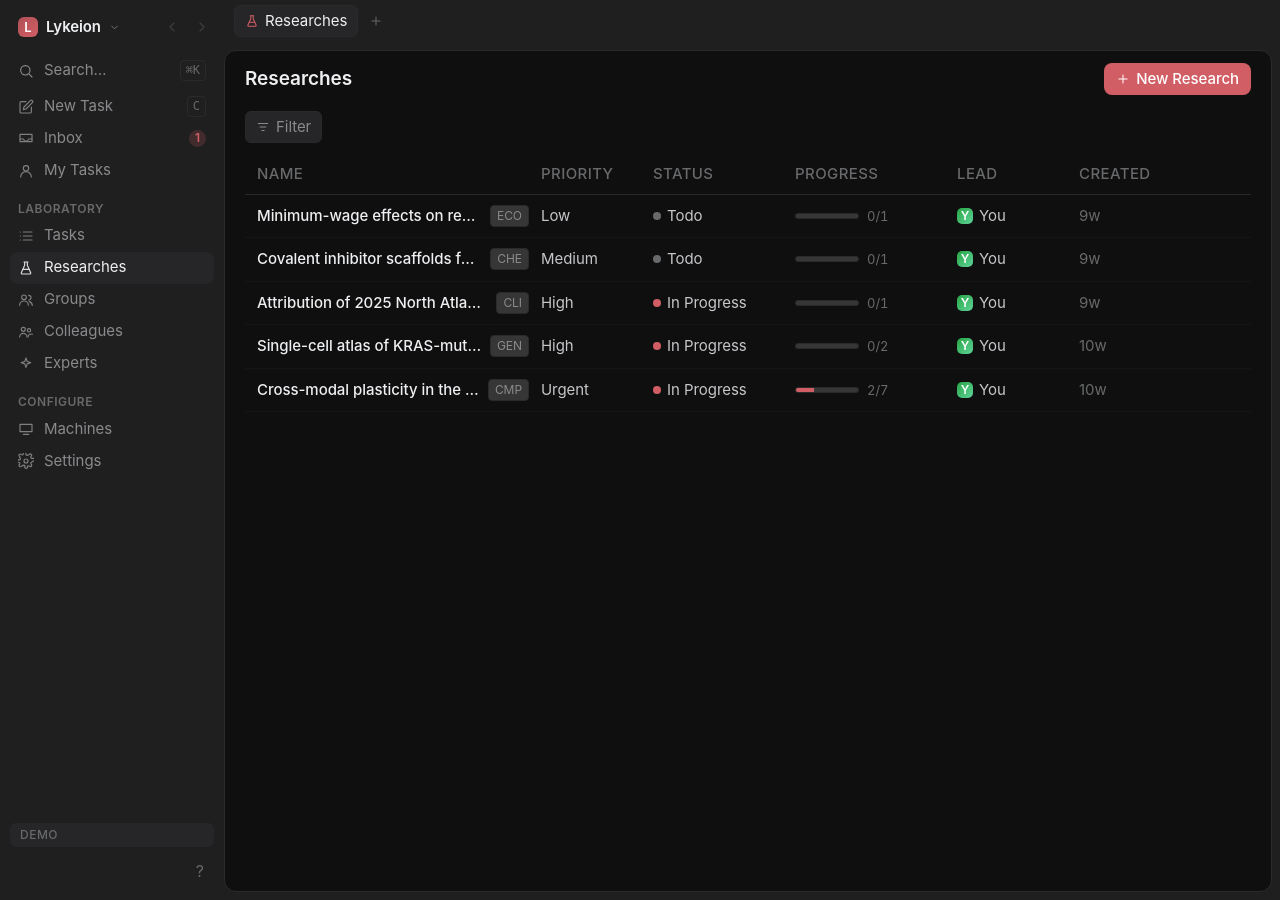
Test: an empty archive says so rather than going blank
The width and height of the screenshot is (1280, 900).
Check: the text "Cross-modal plasticity in the brain" is shown, box [257,378,480,401]
Click the button "Filter".
click(284, 127)  # box [245,111,322,143]
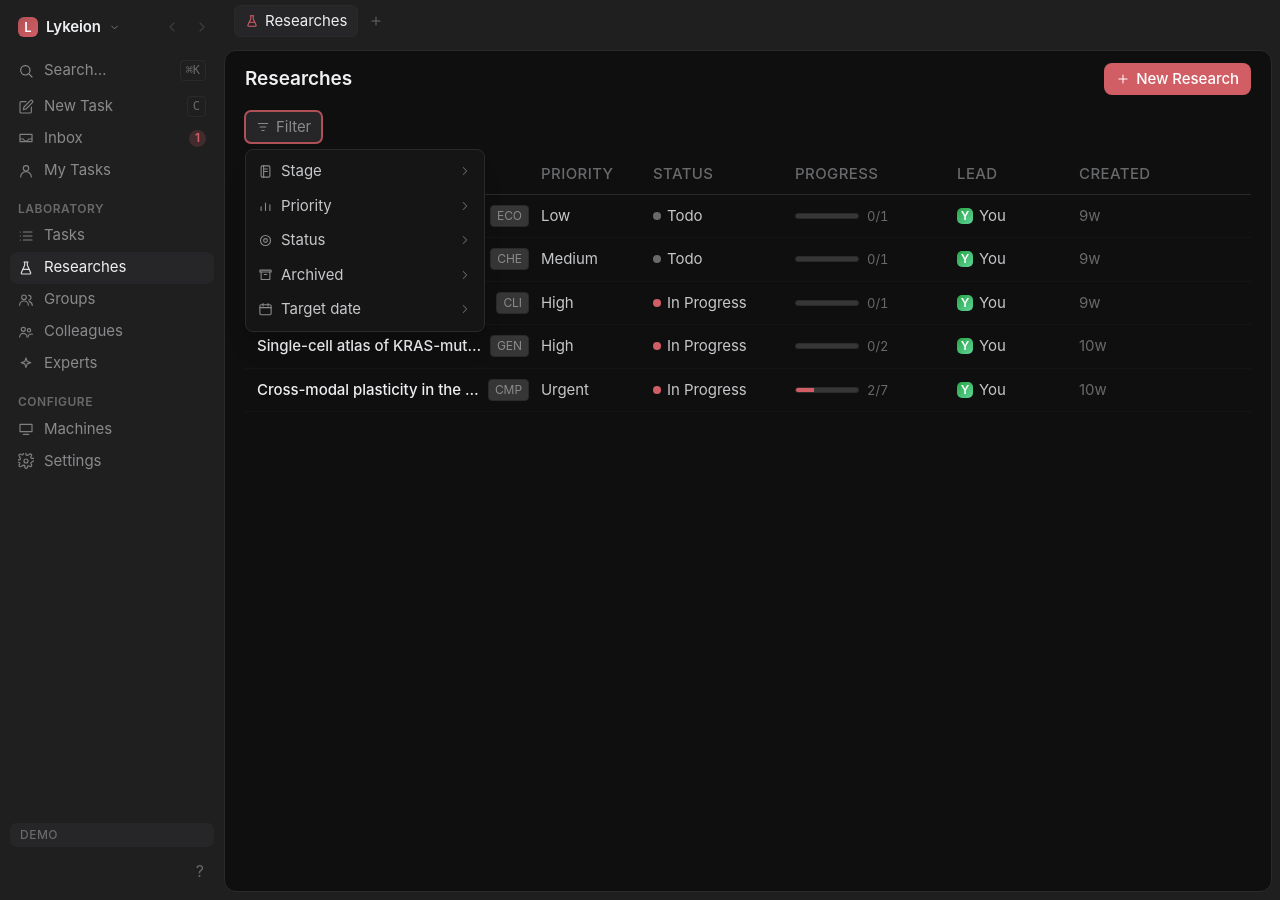
Click the button "Archived".
click(365, 275)  # box [250,258,480,292]
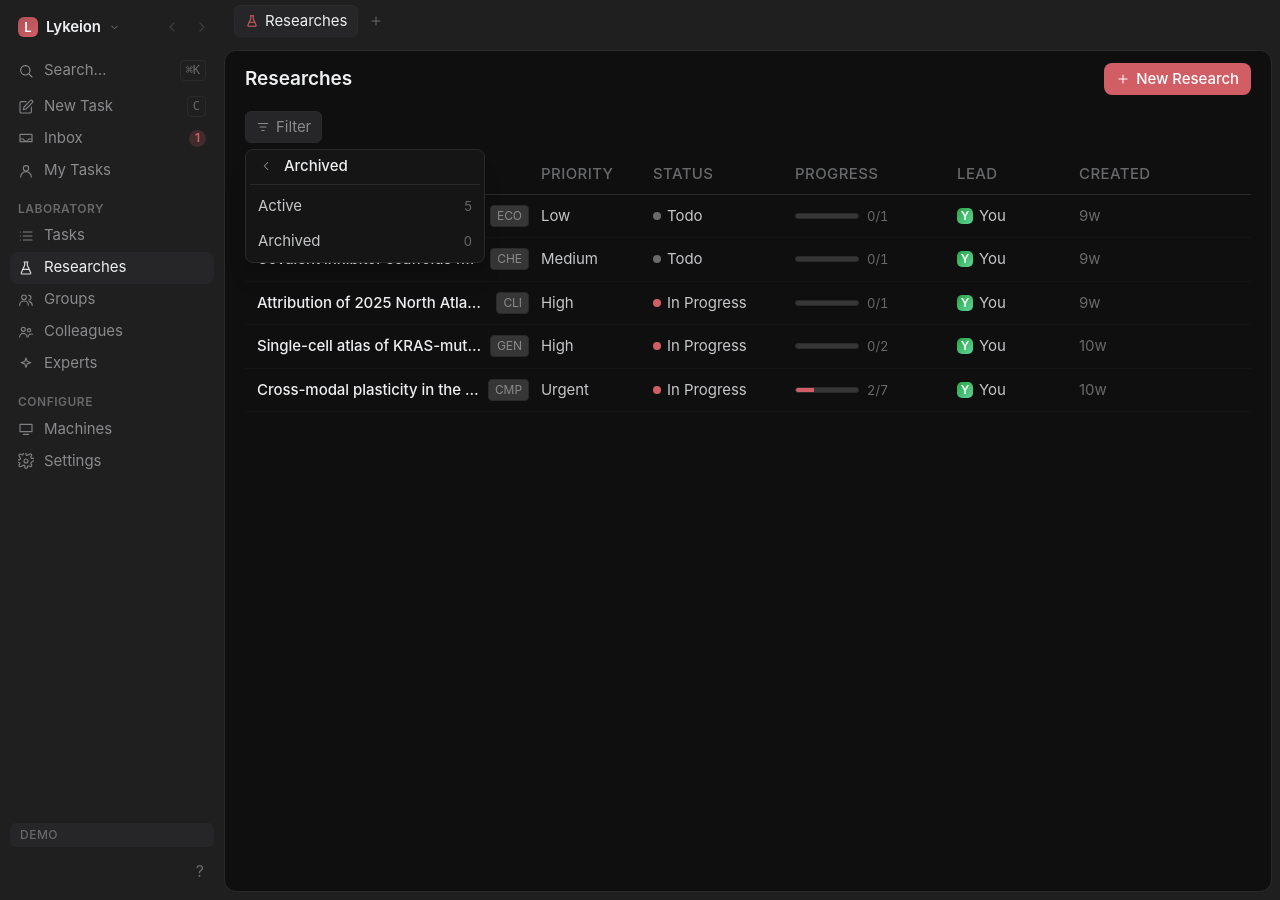
Click the button "Archived 0".
click(365, 241)  # box [250,224,480,258]
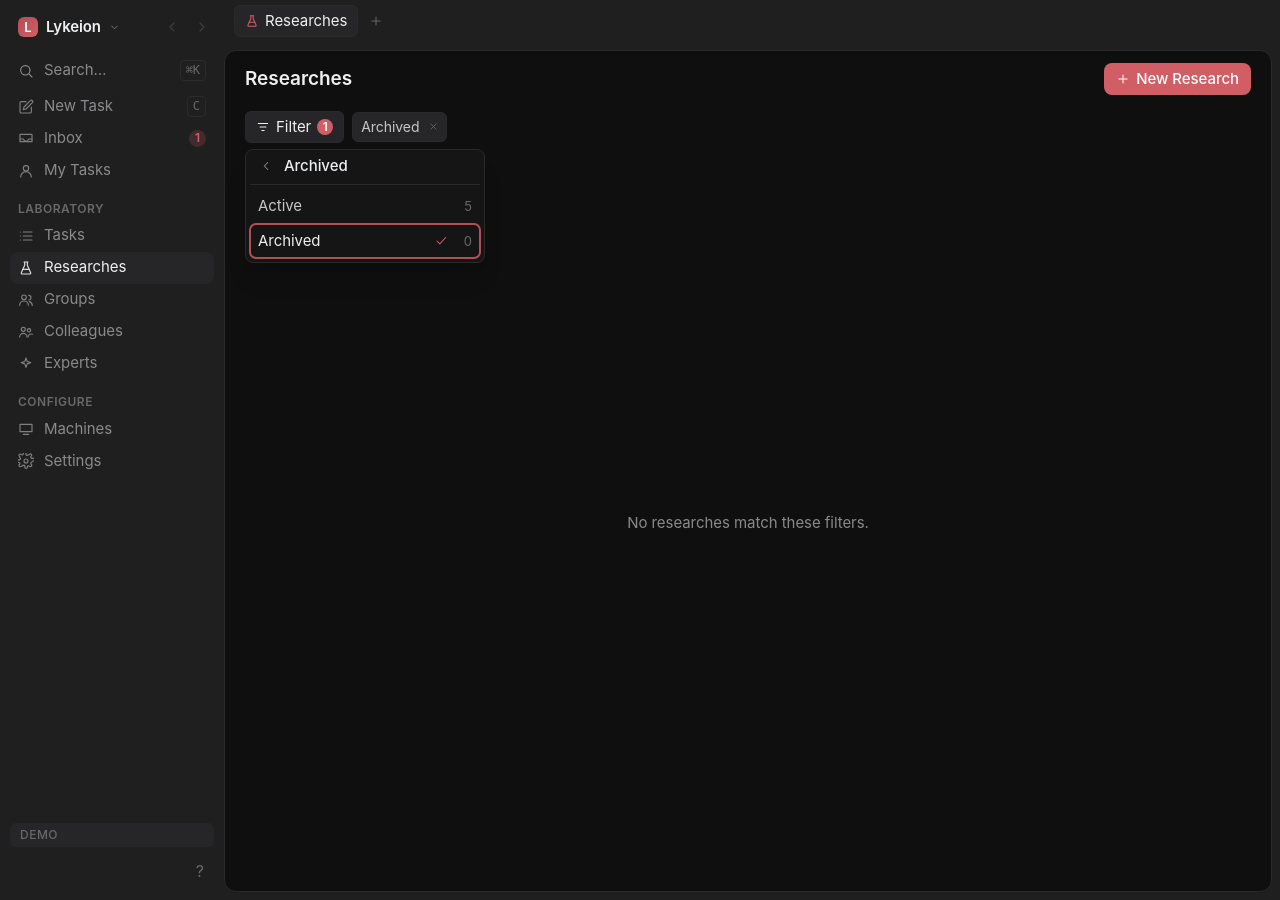
Check: the text "No researches match these filters." is shown, box [627,513,869,532]
